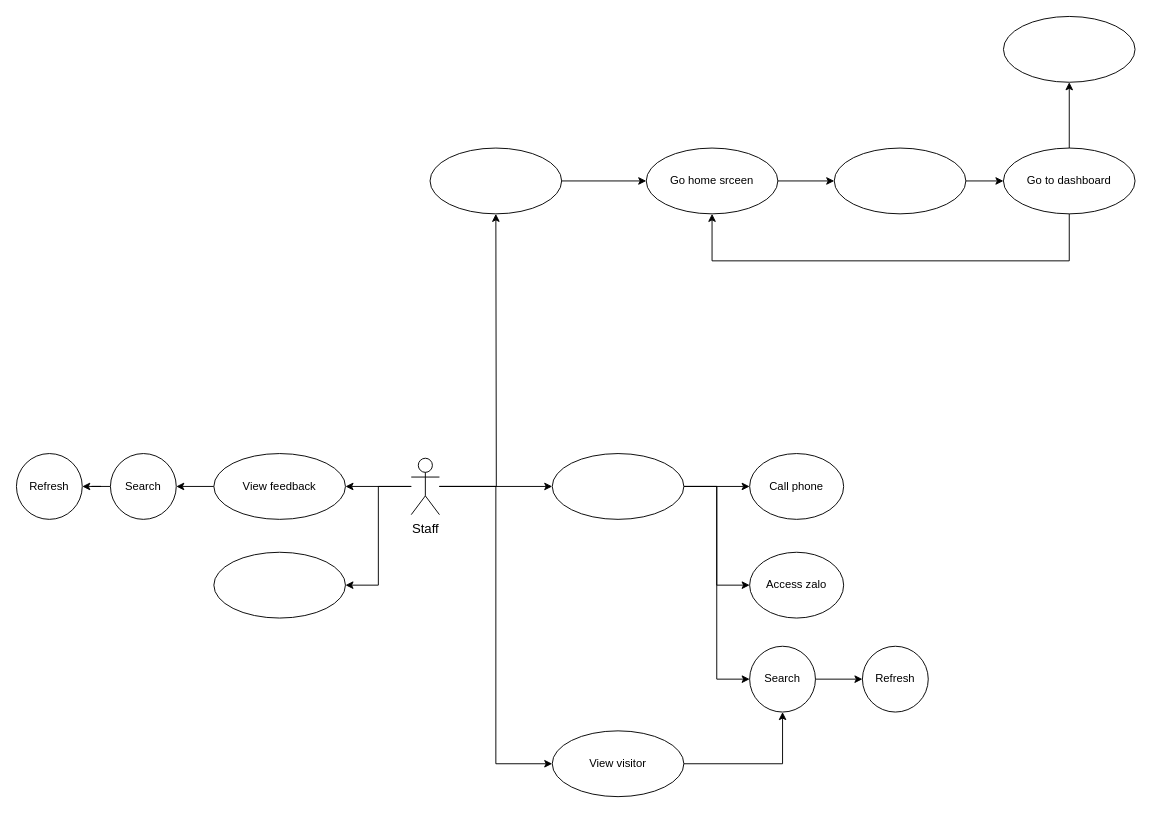
This 1152x813 diagram has some shape labels left out. Each missing label, with the centre of its shape:
"Enter pin code" belongs at [899,180].
"Log out" belongs at [1069,49].
"Login" belongs at [495,180].
"View Apartment" belongs at [617,486].
"View chart" belongs at [279,584].
